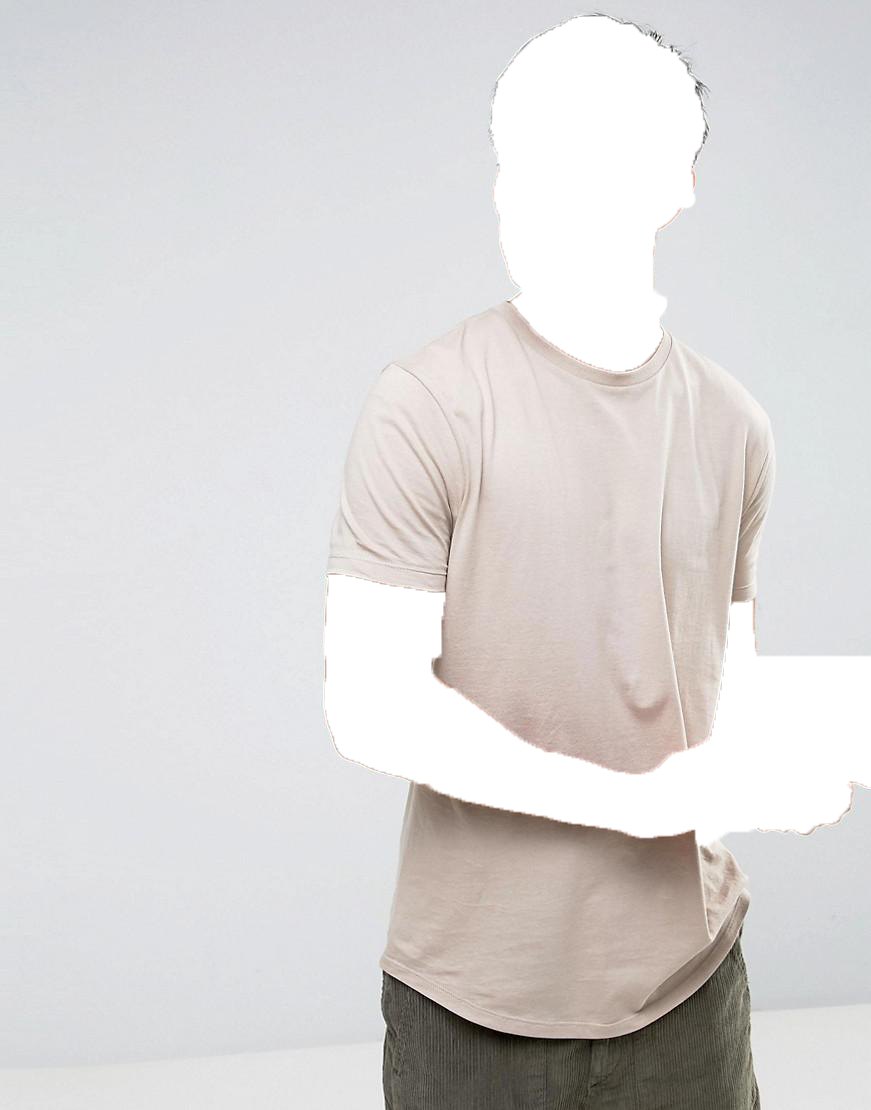teeshirt: (322, 295, 820, 1047)
